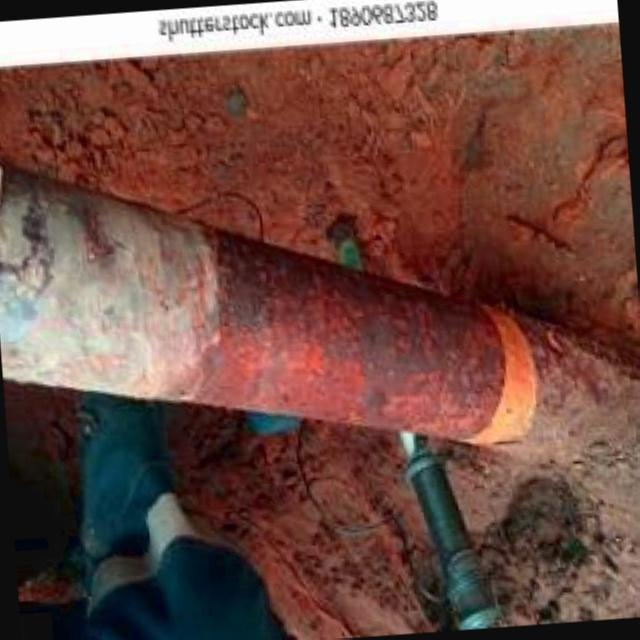rust: (201, 198, 523, 474)
